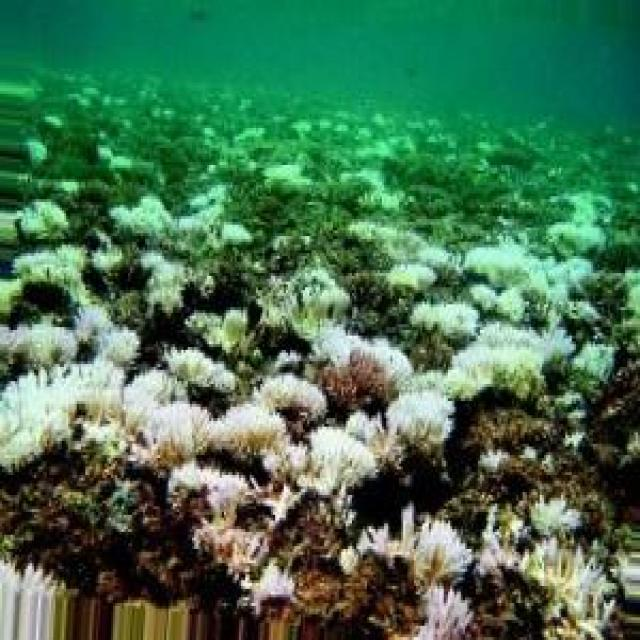bleached coral: (23, 367, 130, 455), (384, 375, 457, 481), (139, 407, 288, 458), (454, 324, 576, 384), (465, 245, 593, 302), (309, 424, 380, 495), (13, 247, 90, 304), (192, 304, 262, 361)
